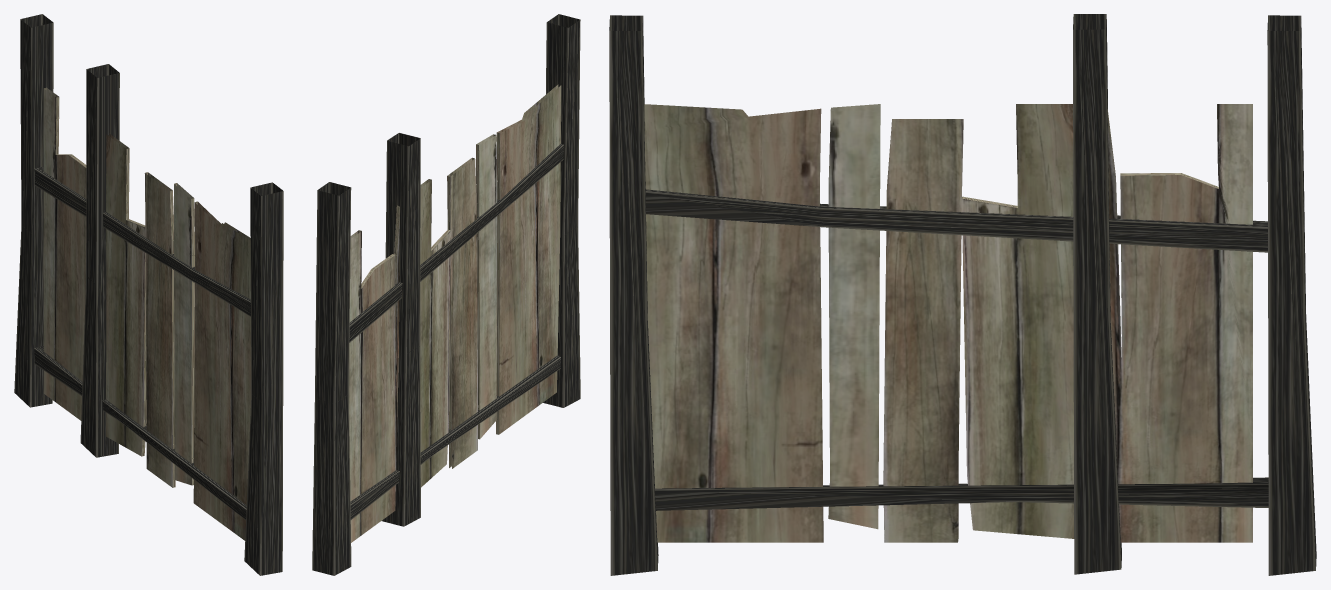
File: interior_wall_shanty.fbx
3 renders of one model, left to right at view 1: azimuth 30°, elevation 25°; view 2: azimuth 150°, elevation 25°; view 3: azimuth 270°, elevation 25°, orthographic. The views are drawn at different scales.
Parts seen in each view (by area): view 1: divider_boards_1, divider_beams_4, divider_beams_5, divider_beams_3, divider_beams_12, divider_beams_2; view 2: divider_boards_1, divider_beams_5, divider_beams_3, divider_beams_4, divider_beams_12, divider_beams_2; view 3: divider_boards_1, divider_beams_5, divider_beams_4, divider_beams_3, divider_beams_12, divider_beams_2.
Boxes of the visible parts, x1,y1,x2,y2 form: divider_boards_1: (43, 87, 251, 540); divider_beams_4: (244, 182, 283, 575); divider_beams_5: (14, 14, 53, 407); divider_beams_3: (80, 64, 119, 457); divider_beams_12: (34, 166, 250, 316); divider_beams_2: (34, 346, 246, 519); divider_boards_1: (349, 84, 561, 542); divider_beams_5: (312, 182, 351, 575); divider_beams_3: (382, 133, 420, 526); divider_beams_4: (543, 14, 580, 407); divider_beams_12: (349, 143, 563, 342); divider_beams_2: (350, 355, 560, 519); divider_boards_1: (644, 104, 1252, 542); divider_beams_5: (1267, 15, 1316, 575); divider_beams_4: (609, 15, 658, 575); divider_beams_3: (1073, 14, 1121, 574); divider_beams_12: (645, 189, 1267, 252); divider_beams_2: (655, 477, 1268, 510).
Bounding box in the file's own units: 152 × 2143 × 2517.
2 materials, 2 textured.
